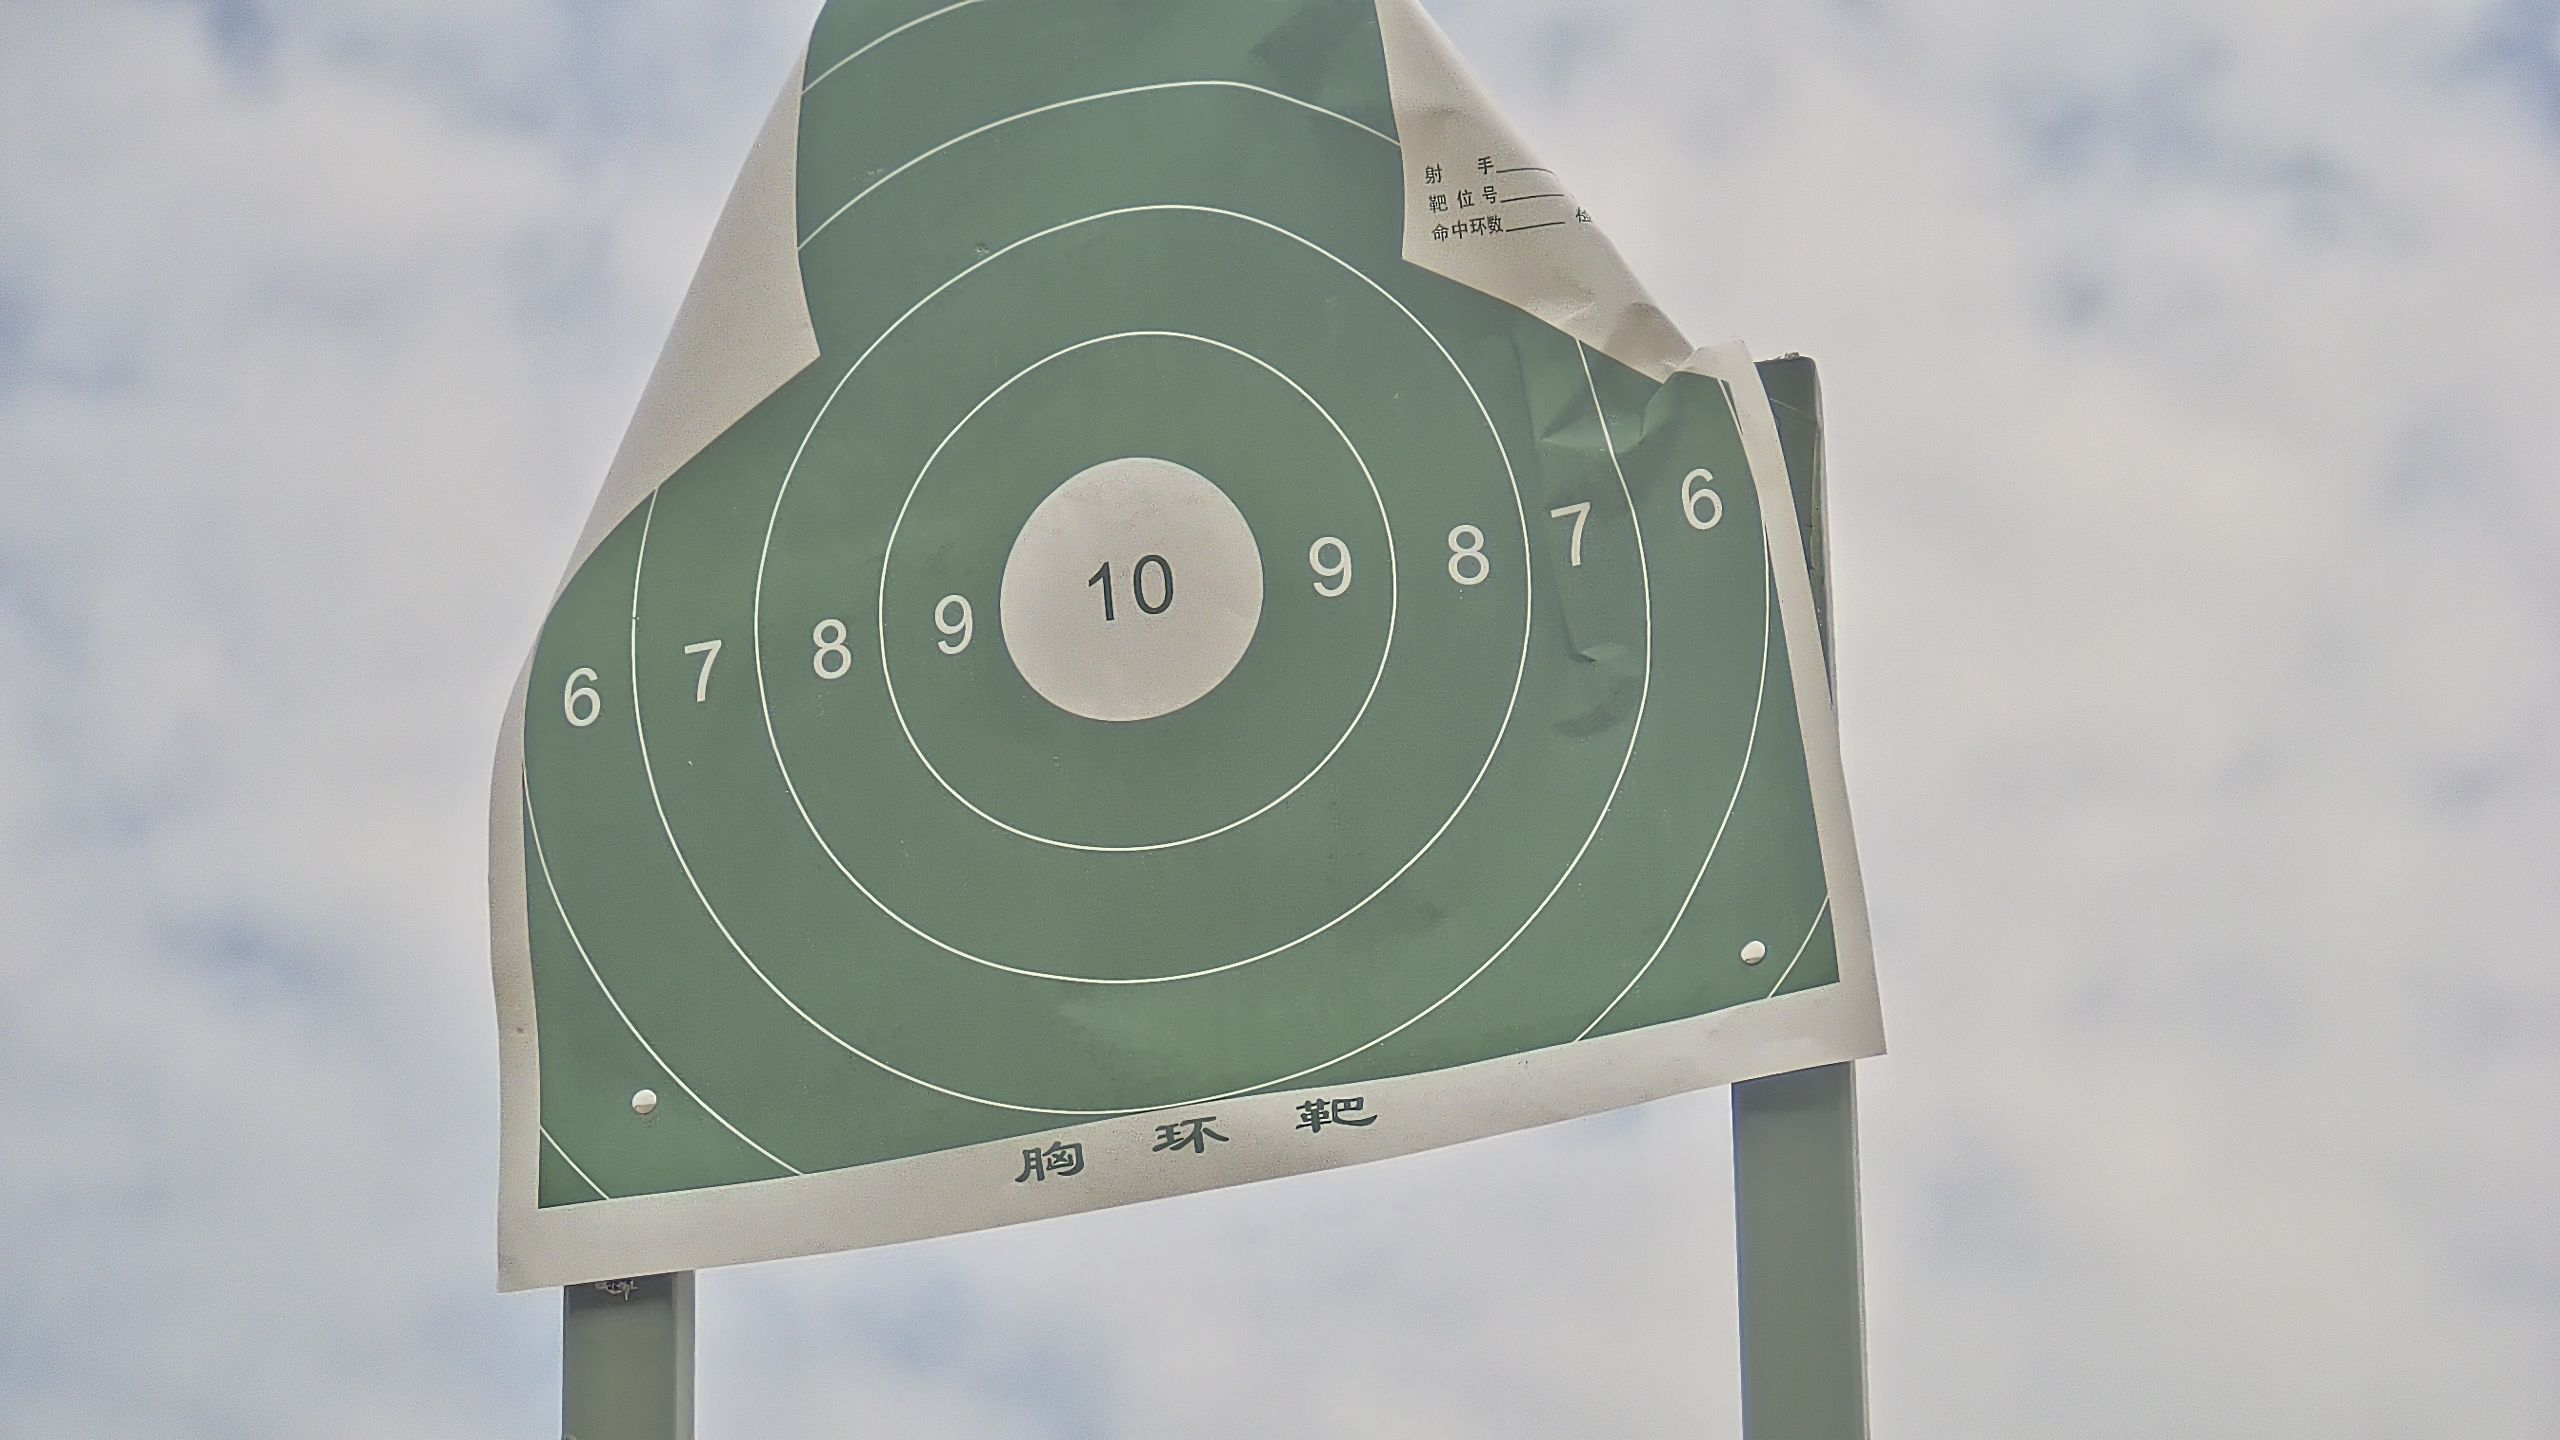kernel: (1122, 587, 1129, 591)
target: (520, 2, 1837, 1224)
ten: (999, 457, 1266, 719)
